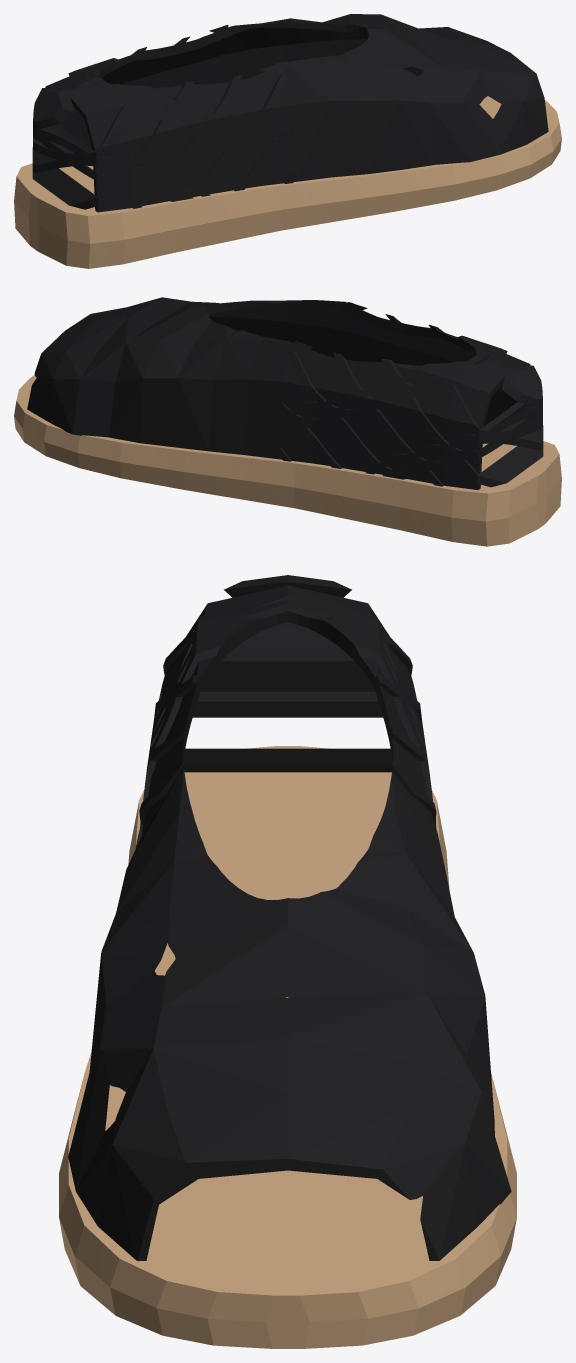
The model's file is shatter-flow.glb.
The picture shows the model from 3 angles, top to bottom: view 1: azimuth 30°, elevation 25°; view 2: azimuth 150°, elevation 25°; view 3: azimuth 270°, elevation 25°; orthographic projection. The views are drawn at different scales.
Parts seen in each view (by area): view 1: shatter-flow_upper, shatter-flow_sole; view 2: shatter-flow_upper, shatter-flow_sole; view 3: shatter-flow_upper, shatter-flow_sole.
Part boxes in pixels (bbox=[...]): shatter-flow_upper: bbox=[32, 14, 548, 212]; shatter-flow_sole: bbox=[14, 96, 561, 268]; shatter-flow_upper: bbox=[27, 297, 543, 489]; shatter-flow_sole: bbox=[14, 375, 561, 546]; shatter-flow_upper: bbox=[68, 575, 511, 1260]; shatter-flow_sole: bbox=[59, 746, 516, 1348].
Bounding box in the file's own units: 0.3 × 0.0879 × 0.117.
